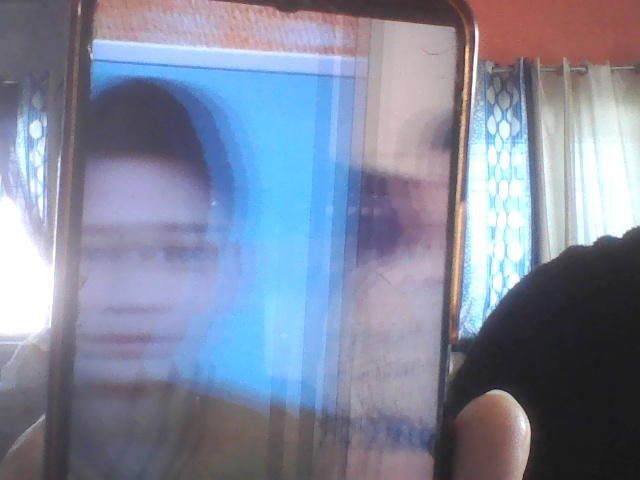fake: (36, 80, 267, 408)
